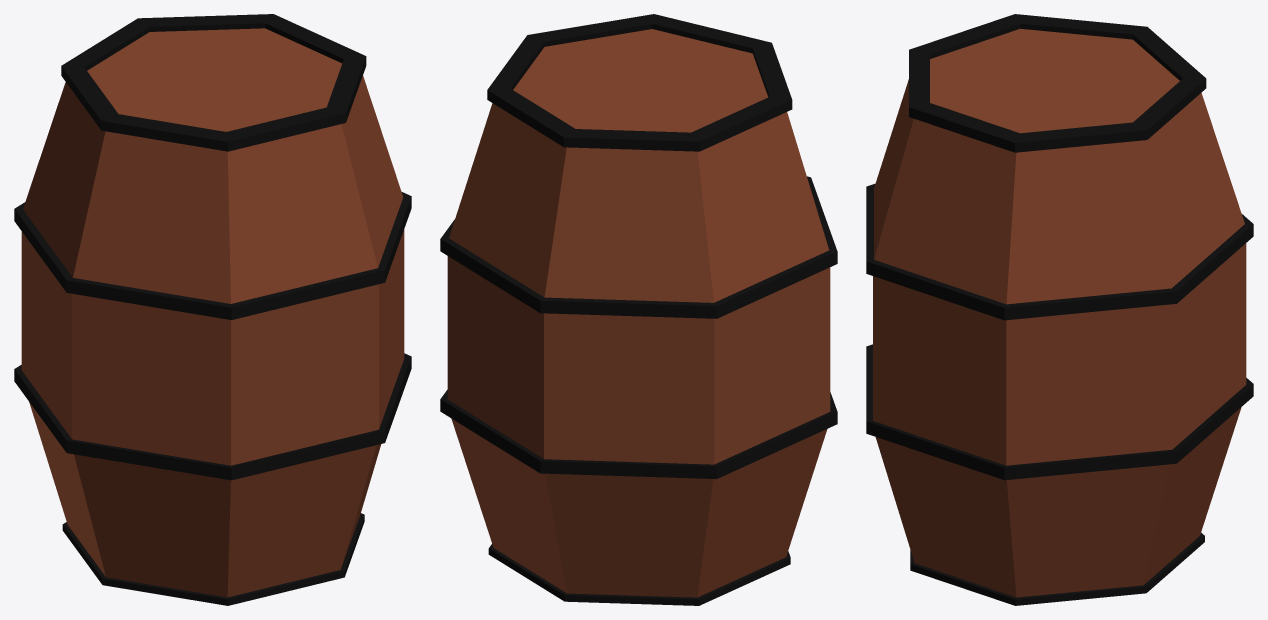
Rendered from Beczka.fbx.
The picture shows the model from 3 angles, left to right: view 1: azimuth 30°, elevation 25°; view 2: azimuth 150°, elevation 25°; view 3: azimuth 270°, elevation 25°; orthographic projection.
Parts seen in each view (by area): view 1: Beczka; view 2: Beczka; view 3: Beczka.
Part boxes in pixels (x1=…): Beczka: x1=14, y1=14, x2=411, y2=605; Beczka: x1=440, y1=14, x2=837, y2=605; Beczka: x1=866, y1=14, x2=1253, y2=605.
Bounding box in the file's own units: 22.26 × 28.67 × 21.7.
